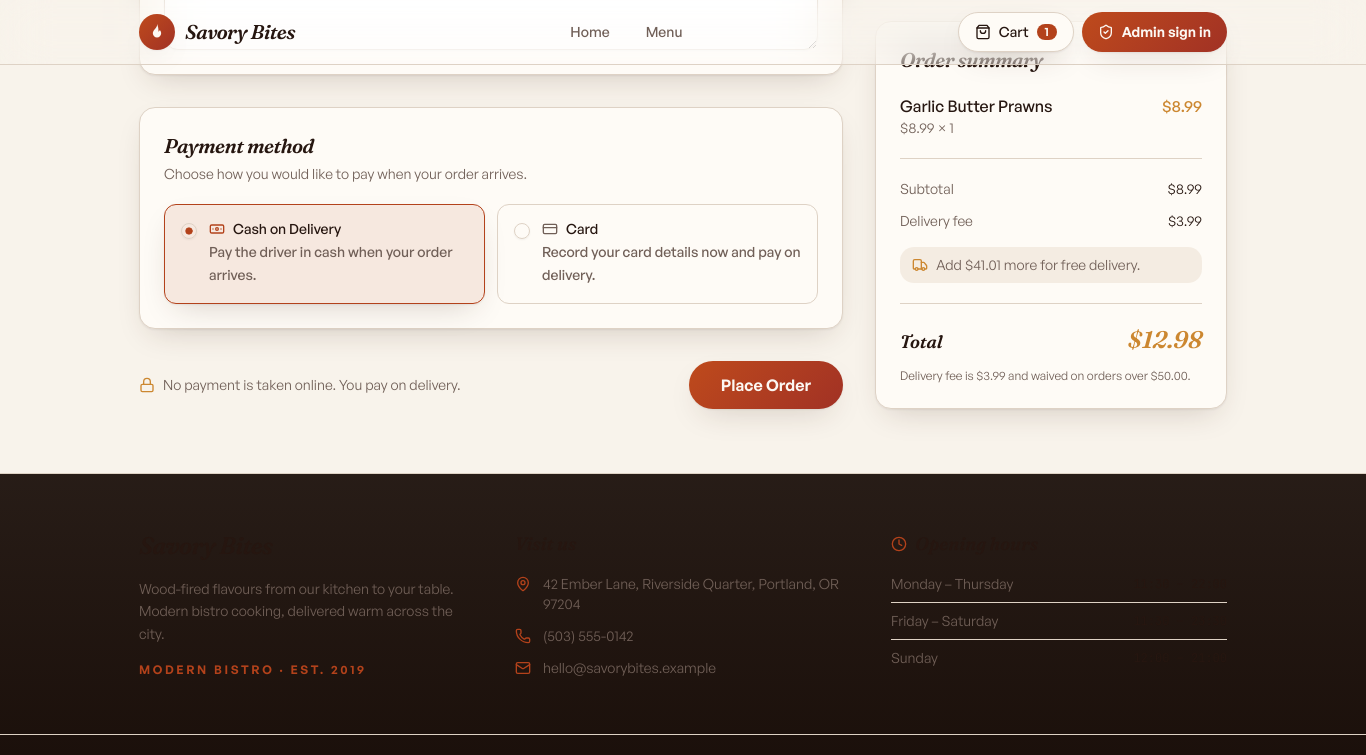
Test: checkout › blocks submission and reports missing required fields
(page scrolled)
Step 1. Click the button with test id "checkout.submit_button" → x=766, y=384, box [689,360,843,408]
(page scrolled)
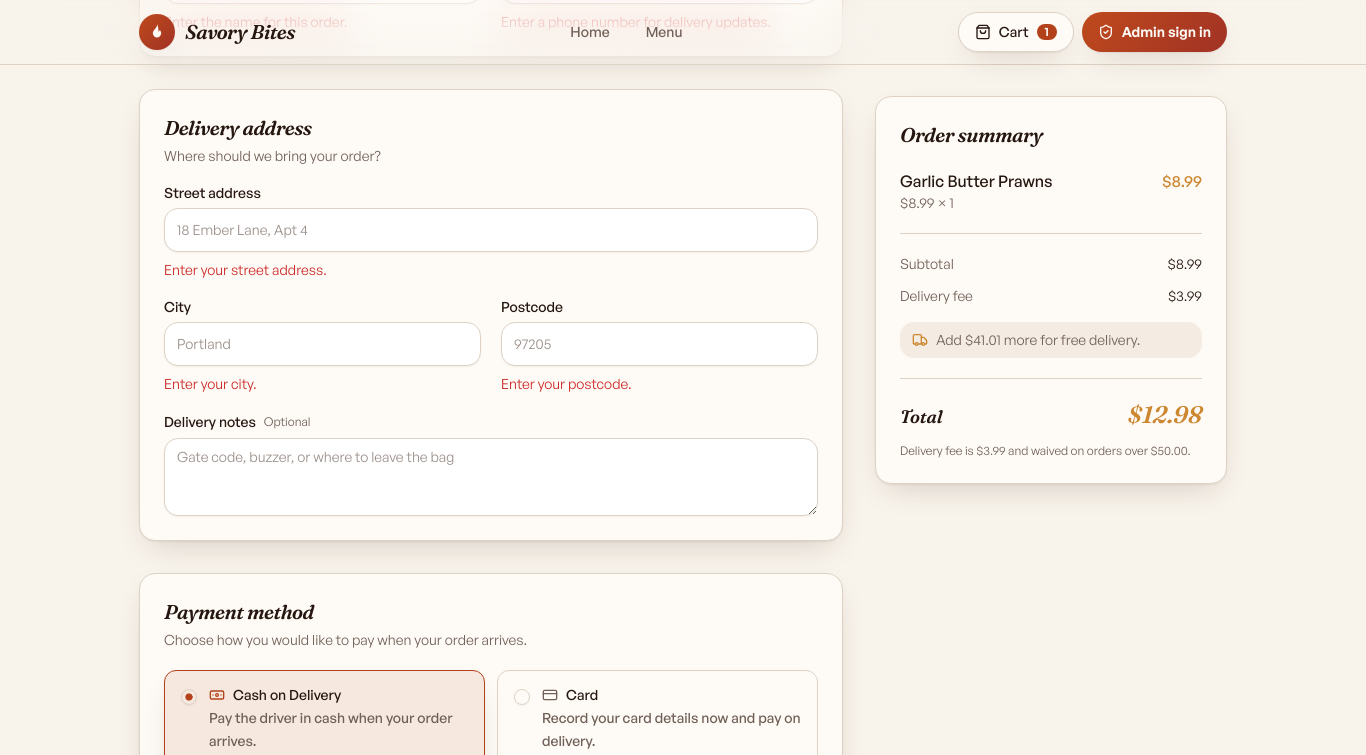
Check: the text with test id "checkout.name_error" reads "Enter the name for this order.", box [164,13,347,30]
Check: the text "Enter a phone number for delivery updates." is shown, box [501,12,818,32]
Check: the text "Enter your street address." is shown, box [164,261,327,278]
